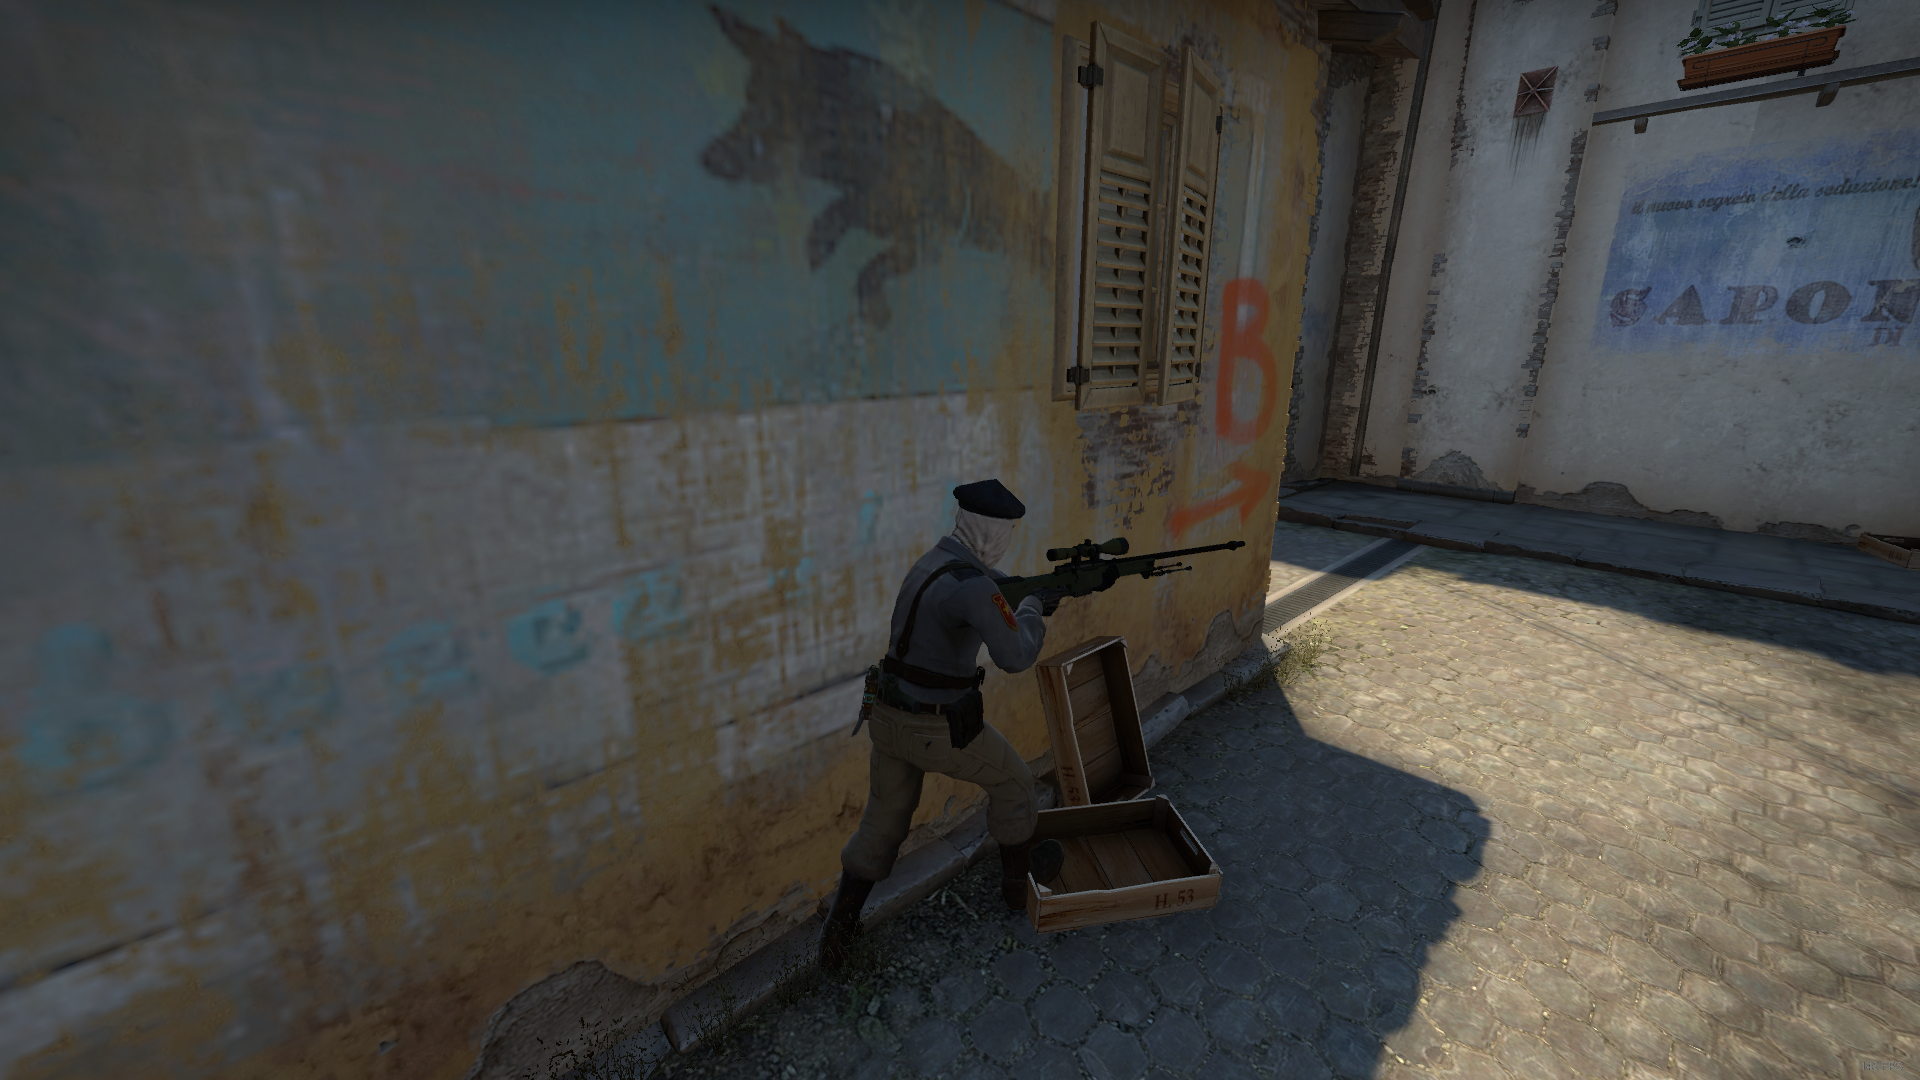t: (818, 473, 1081, 988)
